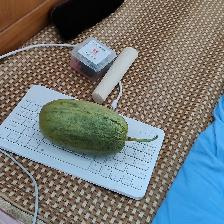gua: (44, 100, 129, 146)
